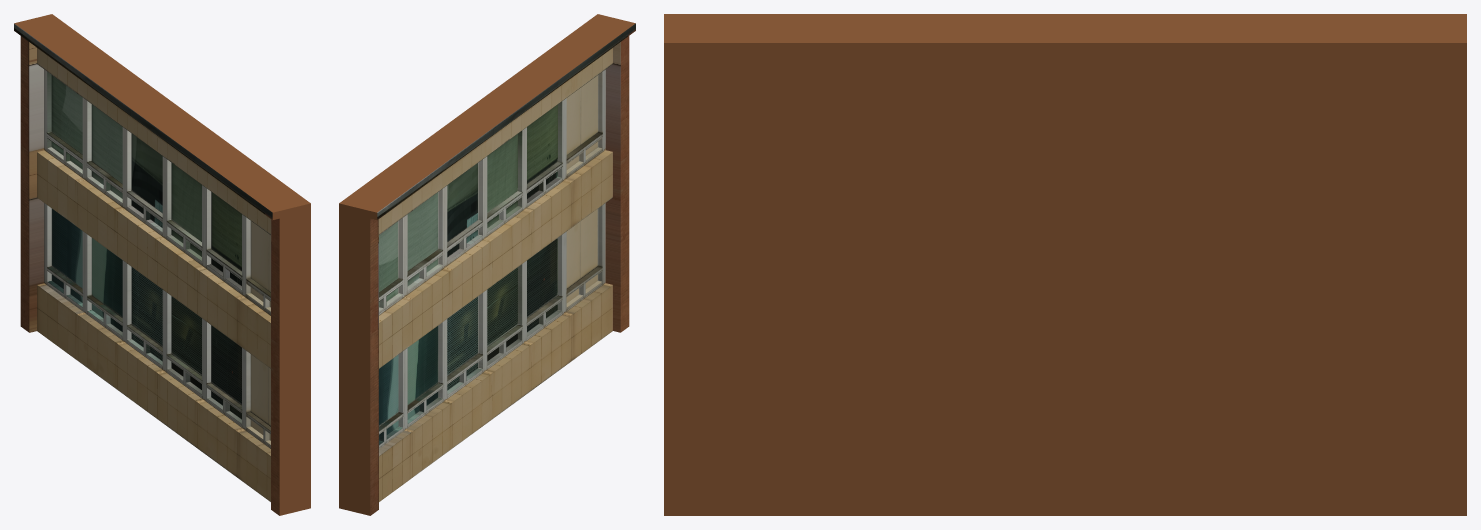
File: facade6.fbx
3 views of the same model, side by side, from view 1: azimuth 30°, elevation 25°; view 2: azimuth 150°, elevation 25°; view 3: azimuth 270°, elevation 25° (orthographic). The views are drawn at different scales.
Parts seen in each view (by area): view 1: façade6.002; view 2: façade6.002; view 3: façade6.002.
Part boxes in pixels (x1,y1,x2,y2): façade6.002: (14,14,310,515); façade6.002: (339,14,635,515); façade6.002: (664,14,1466,515).
Size of the model in its own units: 3.66 by 27.98 by 43.03.
Materials: 2 (2 with a texture image).
